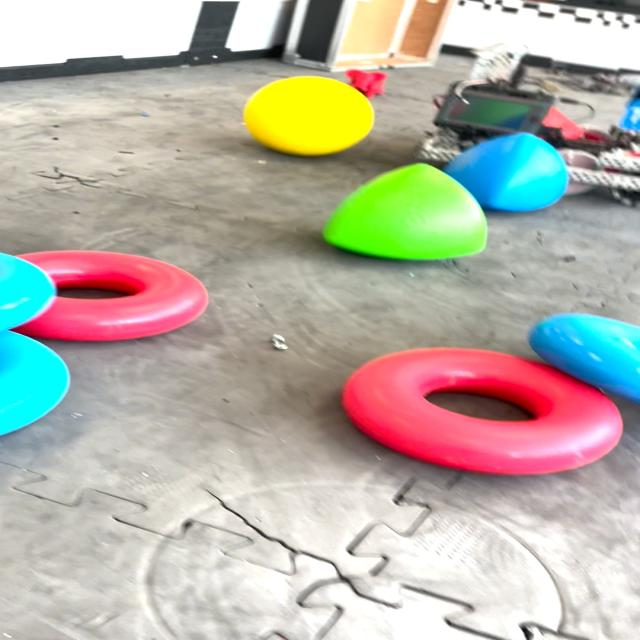Blue-Ring: (529, 312, 639, 402), (1, 328, 72, 444), (3, 252, 56, 332)
Red-Ring: (342, 348, 622, 475), (16, 250, 209, 341)
